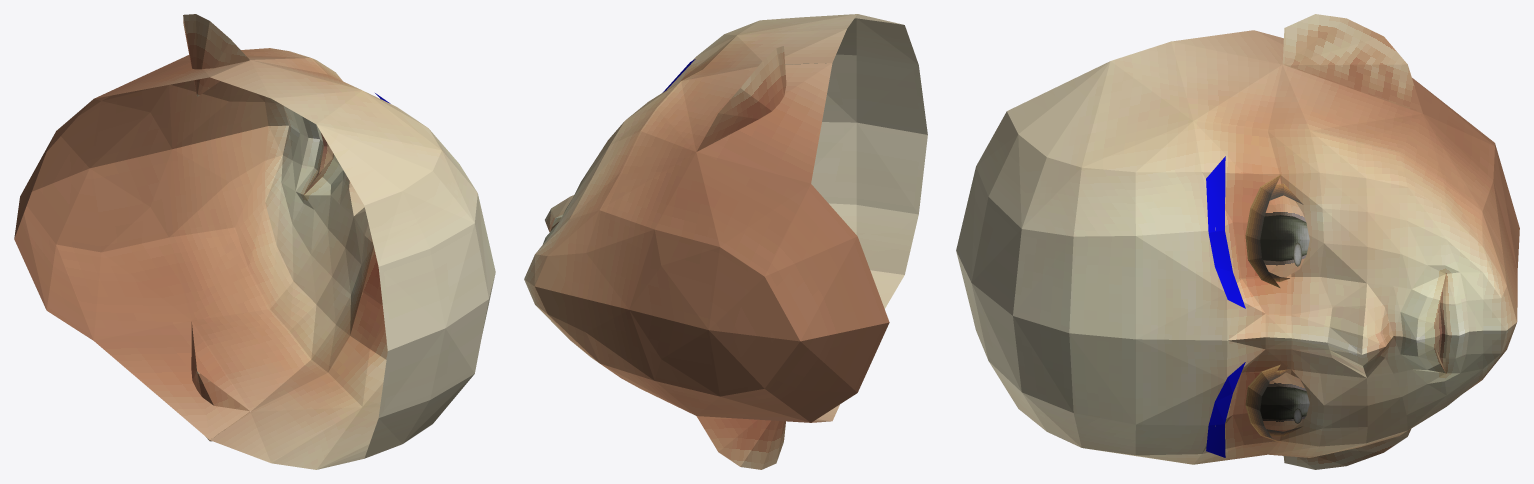
Rendered from Npc_60005.obj.
3 views of the same model, side by side, from view 1: azimuth 30°, elevation 25°; view 2: azimuth 150°, elevation 25°; view 3: azimuth 270°, elevation 25° (orthographic). The views are drawn at different scales.
Parts seen in each view (by area): view 1: Npc_60005; view 2: Npc_60005; view 3: Npc_60005.
Part boxes in pixels (x1,y1,x2,y2): Npc_60005: (14, 14, 495, 469); Npc_60005: (524, 14, 927, 469); Npc_60005: (956, 14, 1519, 469).
Size of the model in its own units: 0.3667 by 0.4 by 0.4482.
Materials: 2 (1 with a texture image).
